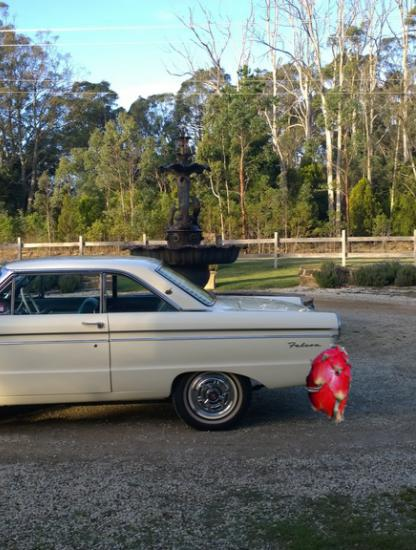Pitahaya: (291, 343, 372, 424)
